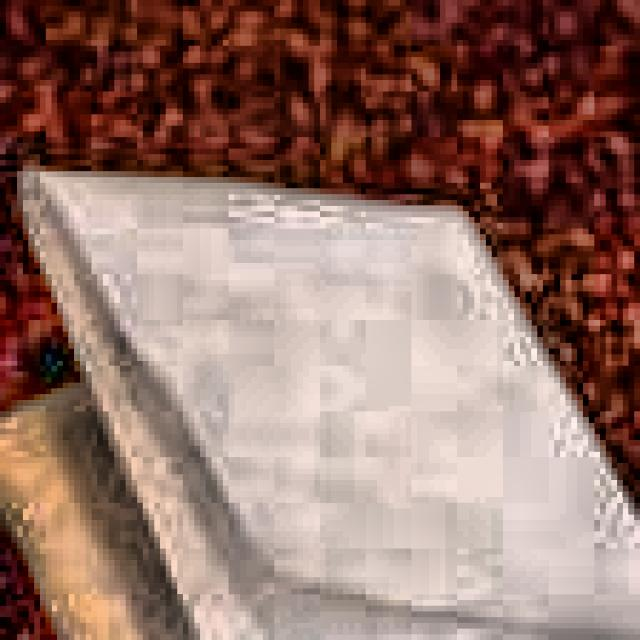paper: (0, 171, 640, 640)
